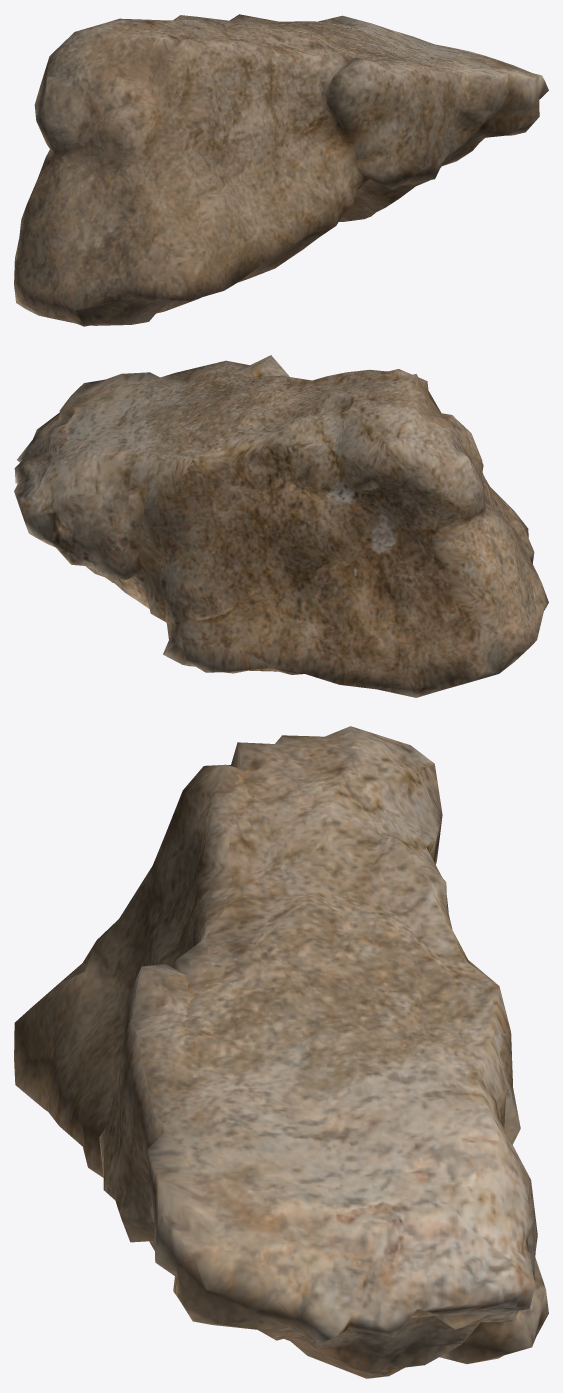
File: aggregate-b.fbx
3 views of the same model, one above another, from view 1: azimuth 30°, elevation 25°; view 2: azimuth 150°, elevation 25°; view 3: azimuth 270°, elevation 25° (orthographic). The views are drawn at different scales.
Parts seen in each view (by area): view 1: aggregate-b; view 2: aggregate-b; view 3: aggregate-b.
Part boxes in pixels (x1=…): aggregate-b: x1=14, y1=14, x2=548, y2=326; aggregate-b: x1=14, y1=355, x2=548, y2=697; aggregate-b: x1=14, y1=726, x2=548, y2=1378.
Bounding box in the file's own units: 15.07 × 8.43 × 7.97.
Materials: 1 (1 with a texture image).
